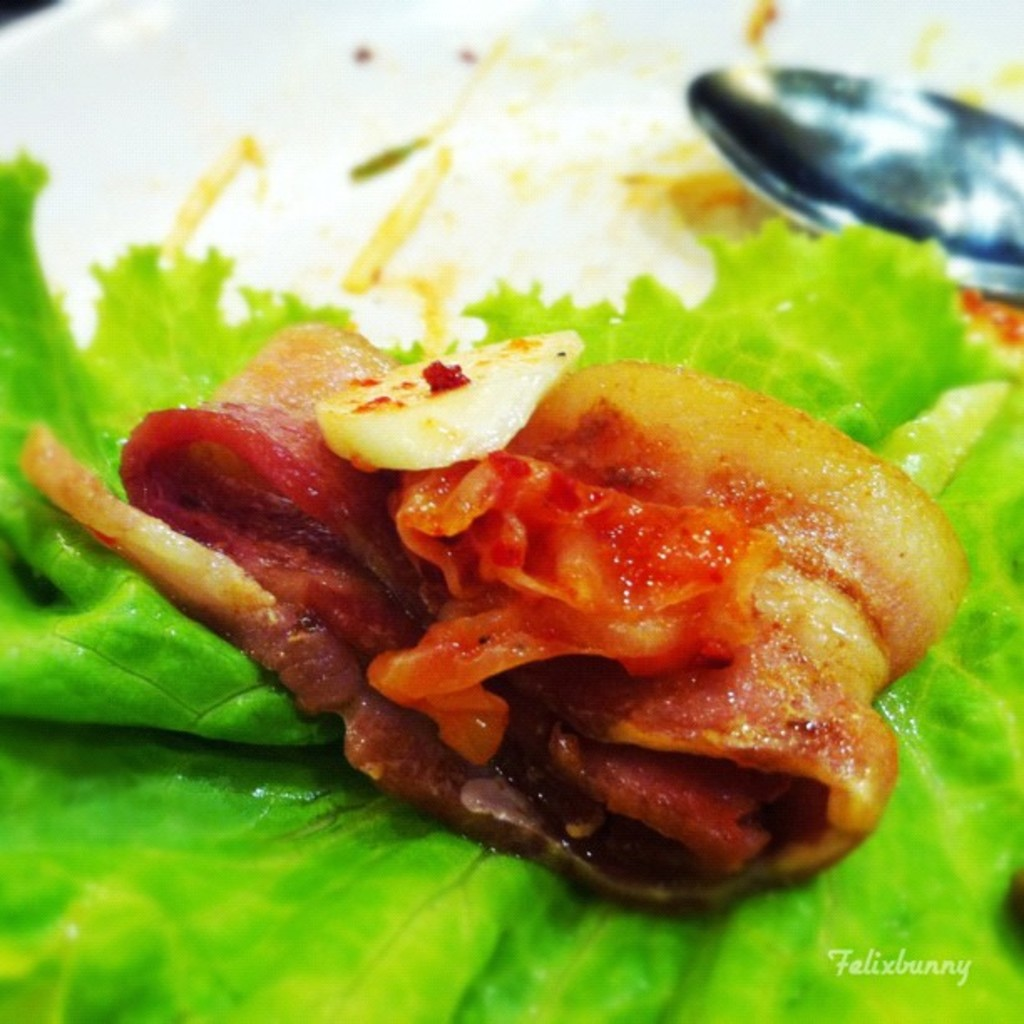salad: (0, 144, 1022, 1022)
